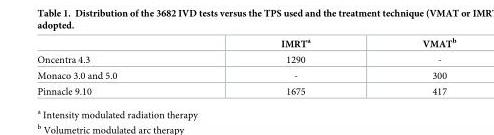table: (36, 36, 455, 96)
table column: (198, 36, 365, 96), (36, 36, 198, 96), (365, 36, 455, 96)
table column header: (36, 36, 455, 51)
table row: (36, 51, 455, 67), (36, 67, 455, 83), (36, 36, 455, 51), (36, 83, 455, 96)
